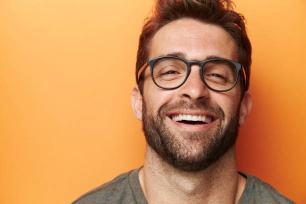male: (132, 20, 248, 174)
